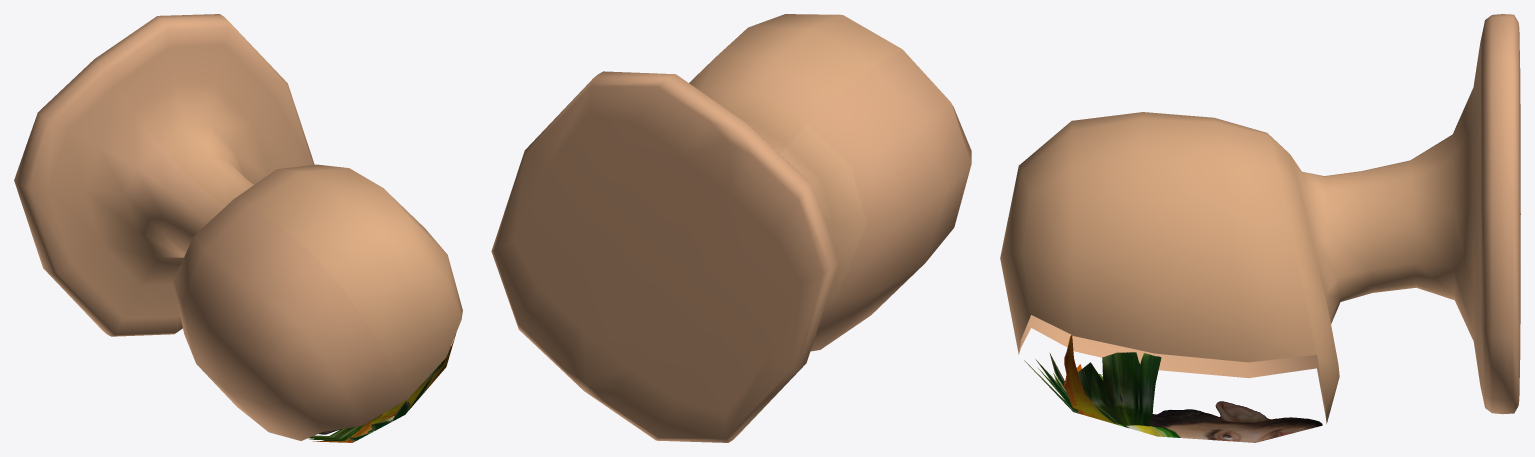
The model's file is Cleonquin.fbx.
3 views of the same model, side by side, from view 1: azimuth 30°, elevation 25°; view 2: azimuth 150°, elevation 25°; view 3: azimuth 270°, elevation 25° (orthographic). The views are drawn at different scales.
Visible parts, largest first — view 1: Maniqui; view 2: Maniqui; view 3: Maniqui.
Boxes of the visible parts, left/top/right/bottom form: Maniqui: left=14, top=14, right=462, bottom=442; Maniqui: left=491, top=14, right=971, bottom=442; Maniqui: left=1000, top=14, right=1520, bottom=442.
Size of the model in its own units: 149 by 156 by 184.
1 material, 1 textured.
